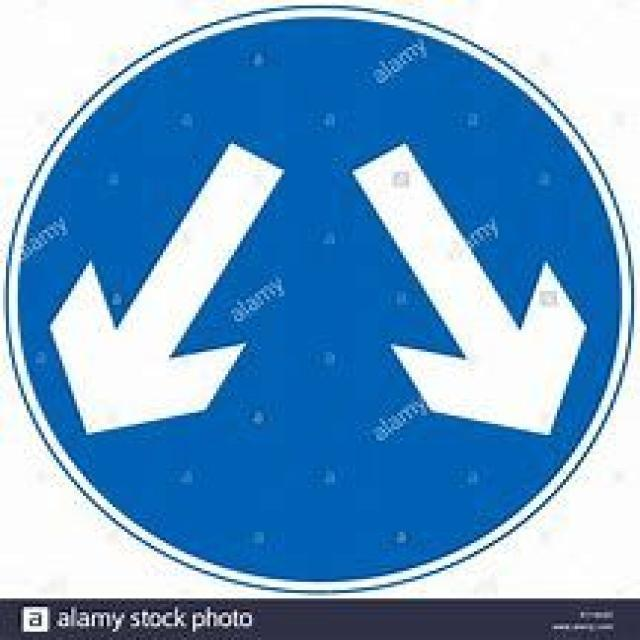pass either side: (20, 14, 629, 586)
